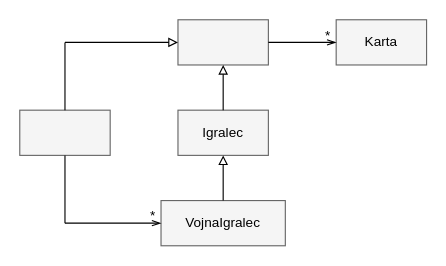
Some shapes in this 446 by 266 pixel diagram are drawn without their labels. The shapes that lost their labels are listed below. From the top down, each one's centre as x and y in pixels, then its label:
(x=222, y=42): Komplet
(x=64, y=132): Vojna
